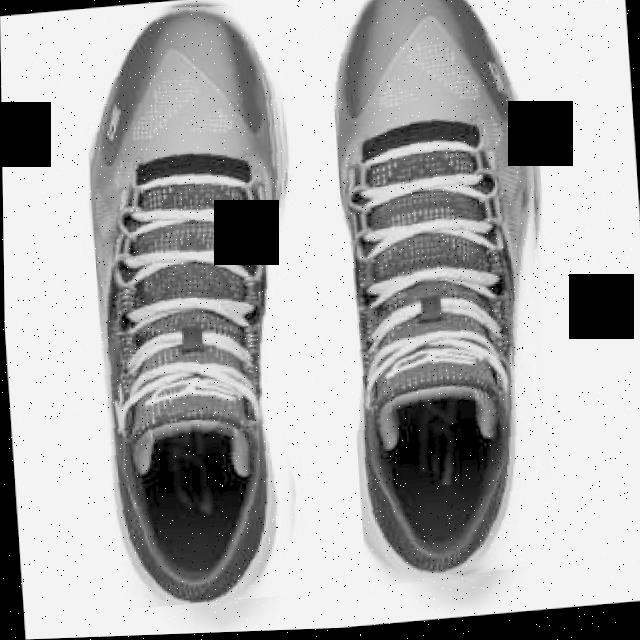shoe: (79, 0, 317, 612), (326, 0, 566, 593)
